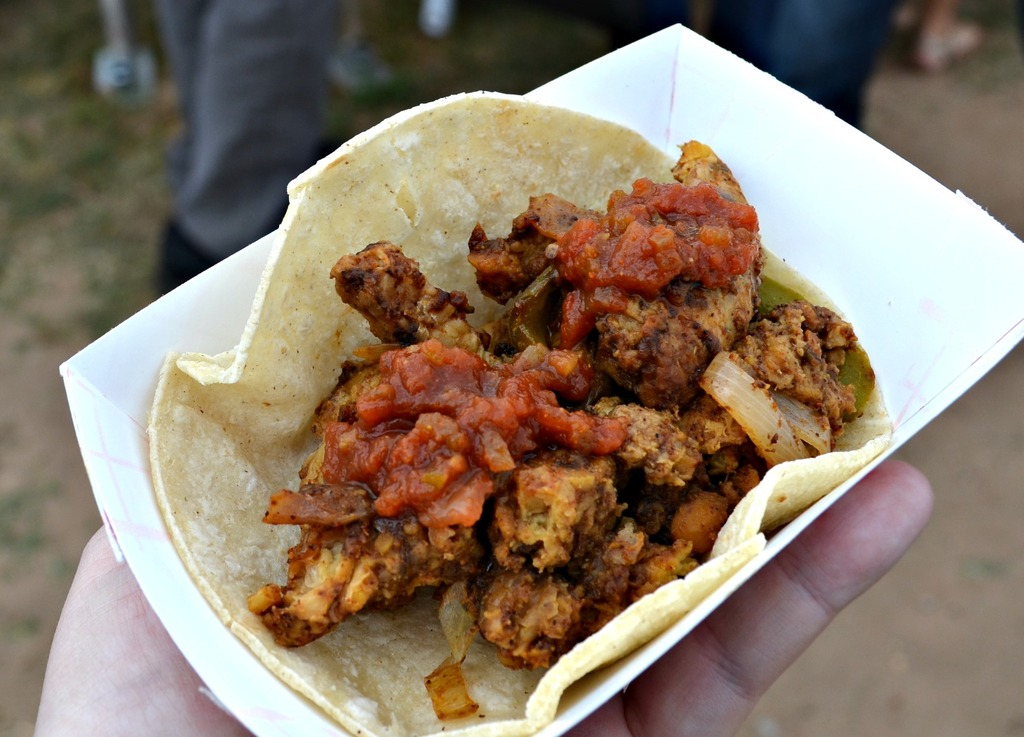taco: (144, 90, 893, 736)
